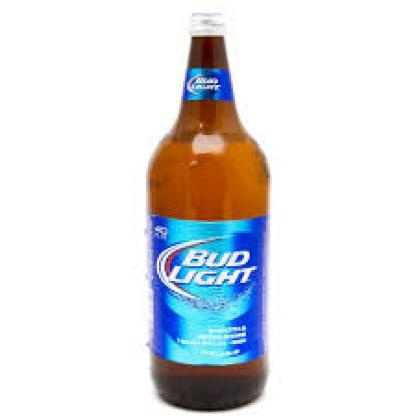trash: (148, 13, 268, 409)
